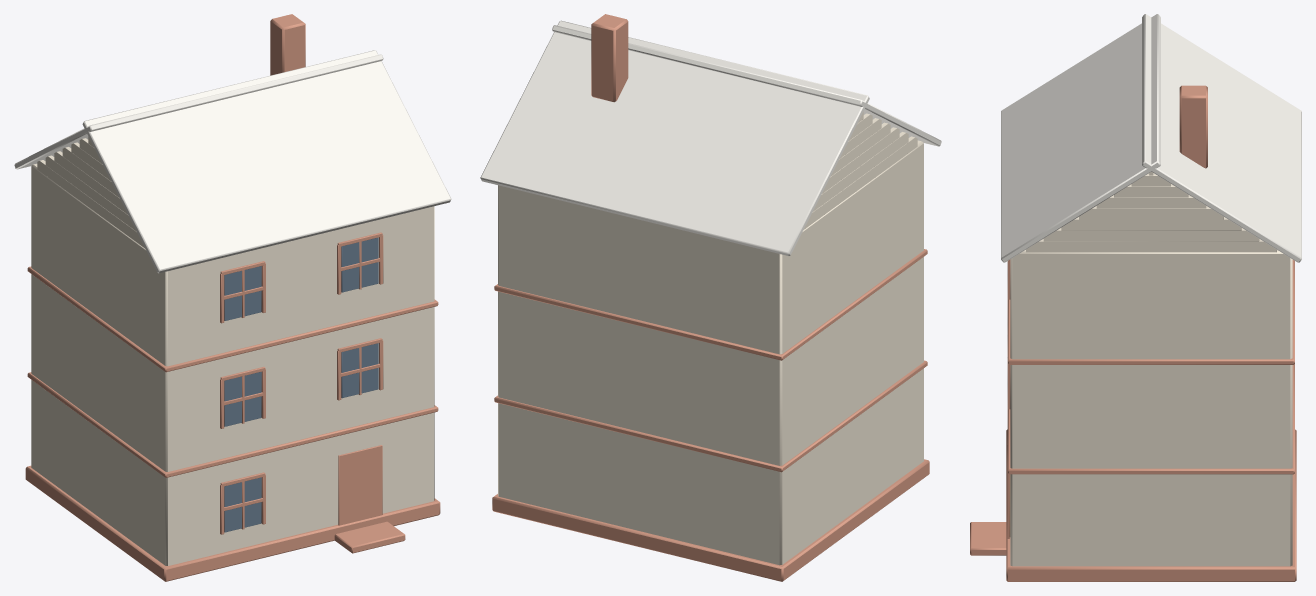
File: house_c.glb
3 views of the same model, side by side, from view 1: azimuth 30°, elevation 25°; view 2: azimuth 150°, elevation 25°; view 3: azimuth 270°, elevation 25° (orthographic). The views are drawn at different scales.
Visible parts, largest first — view 1: house_c; view 2: house_c; view 3: house_c.
Boxes of the visible parts, box(x1,y1,x2,y2) form: house_c: box(14, 14, 451, 581); house_c: box(480, 14, 941, 581); house_c: box(970, 14, 1301, 581).
Size of the model in its own units: 8.7 by 12.68 by 8.23.
